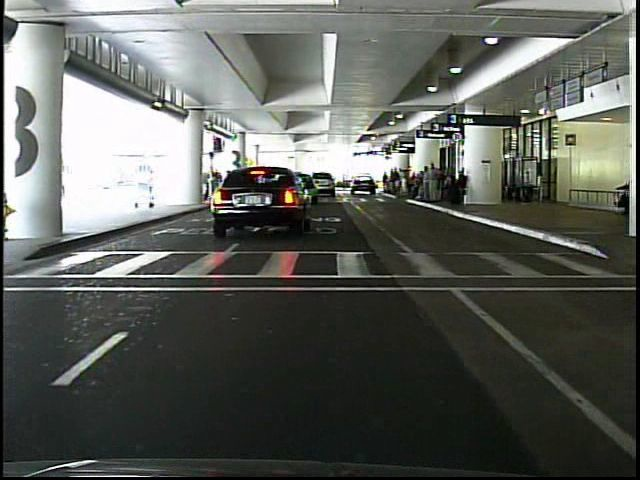person: (424, 158, 444, 209)
